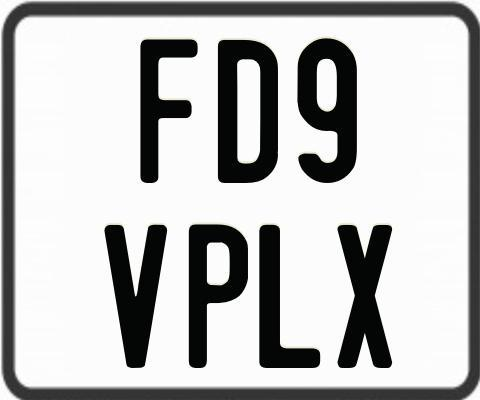9: (296, 36, 360, 182)
D: (216, 39, 282, 187)
F: (138, 38, 198, 185)
L: (256, 223, 318, 372)
P: (187, 222, 252, 368)
V: (105, 223, 170, 370)
X: (338, 225, 392, 369)
